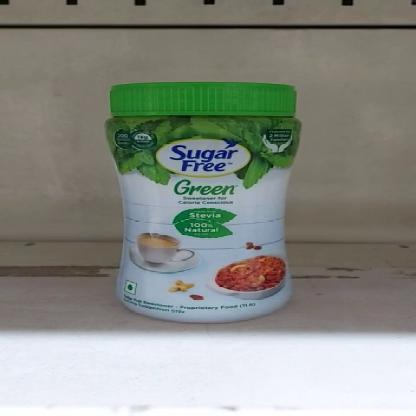SUGAR FREE_GRN_ POWDER_CONC_100G: (102, 80, 302, 326)
